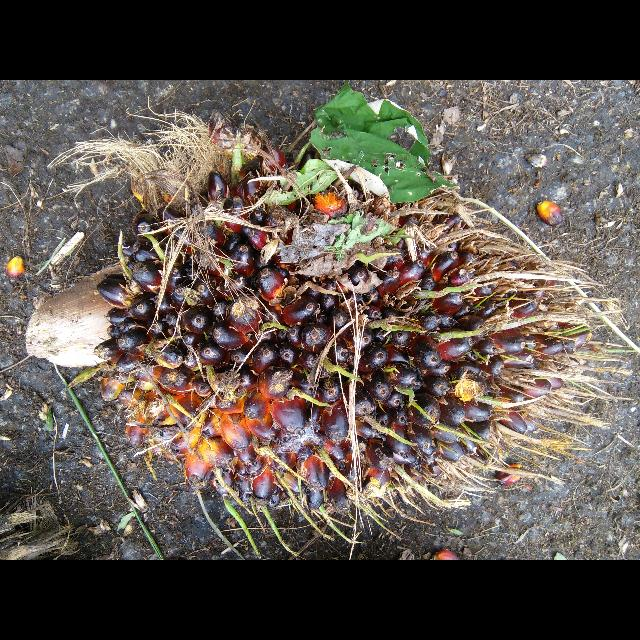Unripe: (94, 161, 583, 501)
